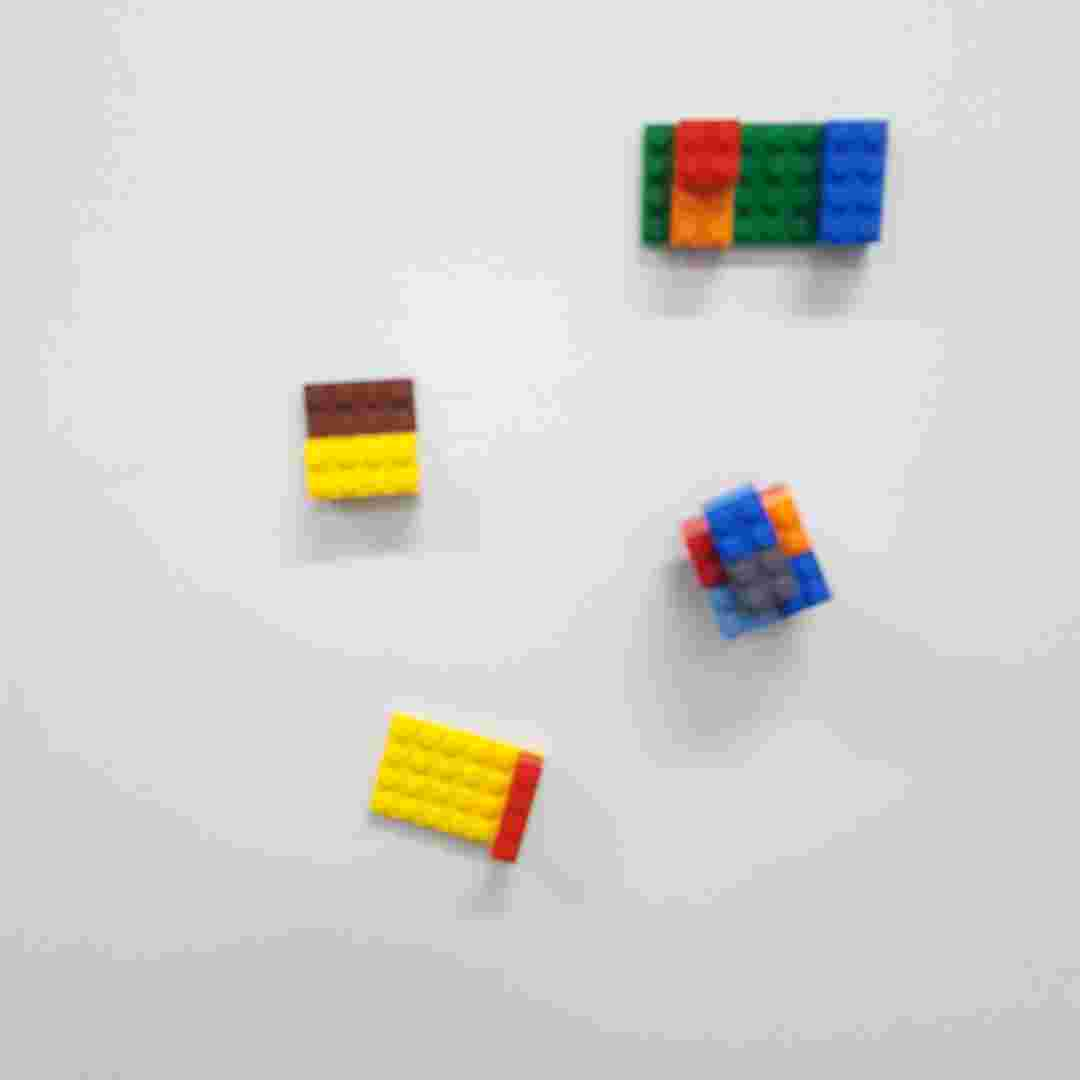LEGO: (632, 115, 894, 254), (364, 705, 552, 871), (680, 474, 842, 648), (298, 372, 432, 504)
